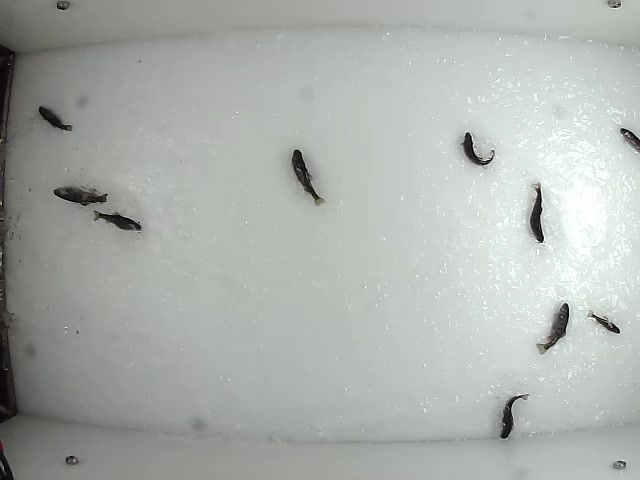fish: (288, 147, 327, 209), (524, 179, 552, 246), (537, 301, 568, 356), (50, 183, 113, 207), (499, 392, 529, 440), (89, 209, 144, 234), (461, 131, 497, 166), (37, 104, 76, 134), (585, 308, 623, 336)
